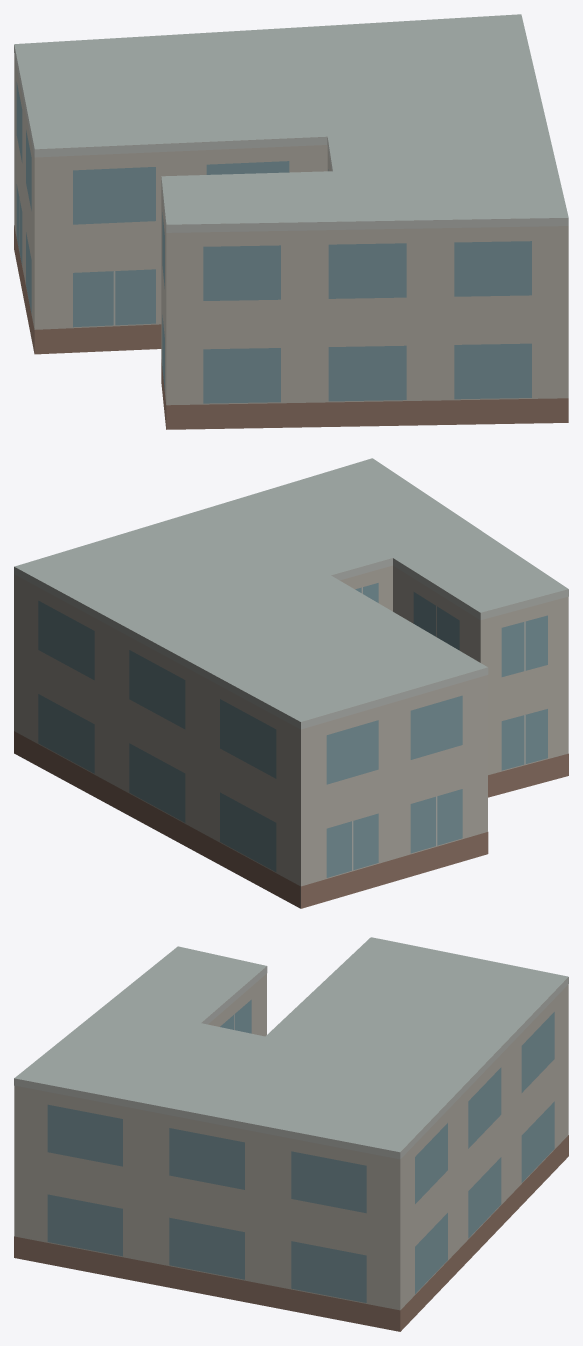
File: survey-upis-32793459.glb
3 renders of one model, top to bottom at view 1: azimuth 30°, elevation 25°; view 2: azimuth 150°, elevation 25°; view 3: azimuth 270°, elevation 25°, orthographic. The views are drawn at different scales.
Visible parts, largest first — view 1: survey-upis-32793459.tmp; view 2: survey-upis-32793459.tmp; view 3: survey-upis-32793459.tmp.
Part boxes in pixels (x1,y1,x2,y2): survey-upis-32793459.tmp: (14,14,568,429); survey-upis-32793459.tmp: (14,458,568,908); survey-upis-32793459.tmp: (14,937,568,1331).
Bounding box in the file's own units: 15.69 × 6.1 × 17.09.
